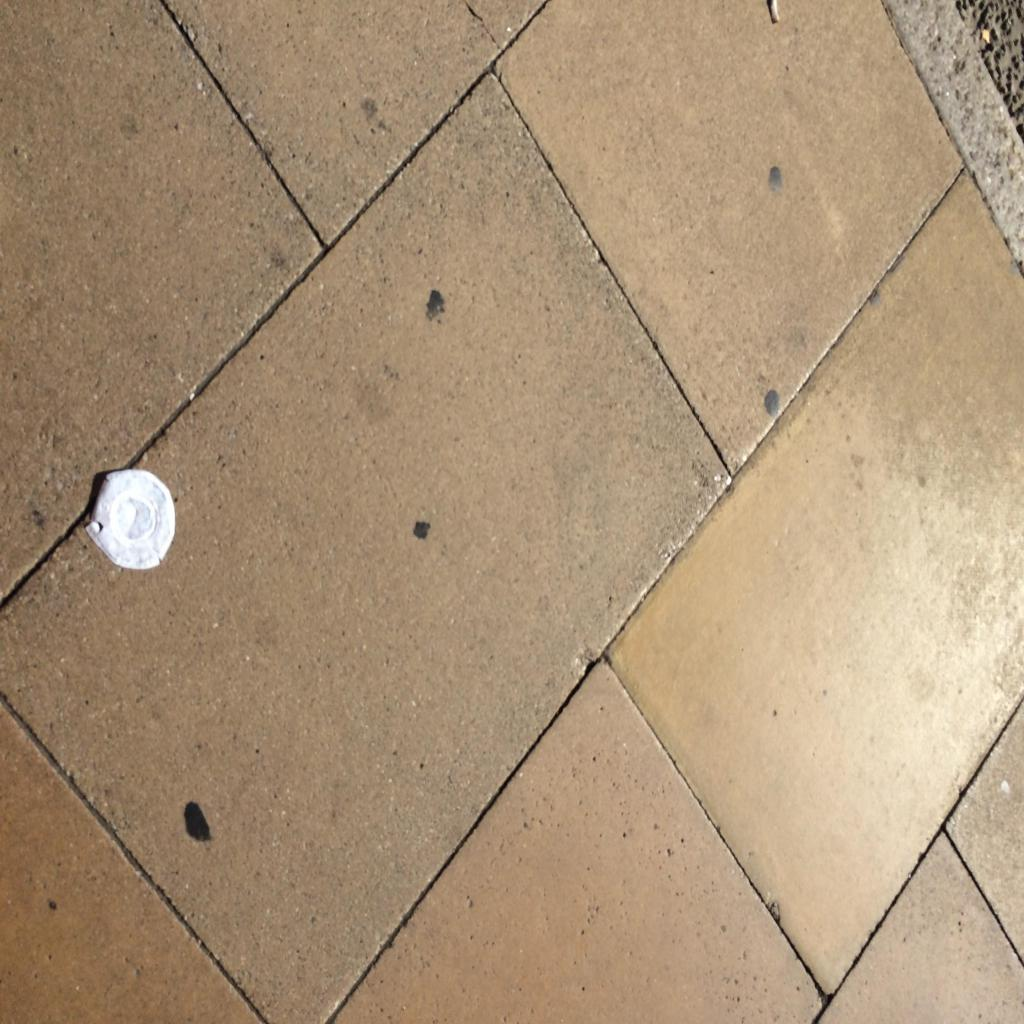Cigarette: (768, 2, 780, 24)
Plastic lid: (85, 470, 175, 570)
